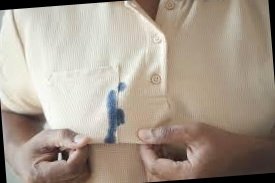ink: (104, 91, 119, 141), (117, 108, 124, 125), (117, 82, 126, 92)
